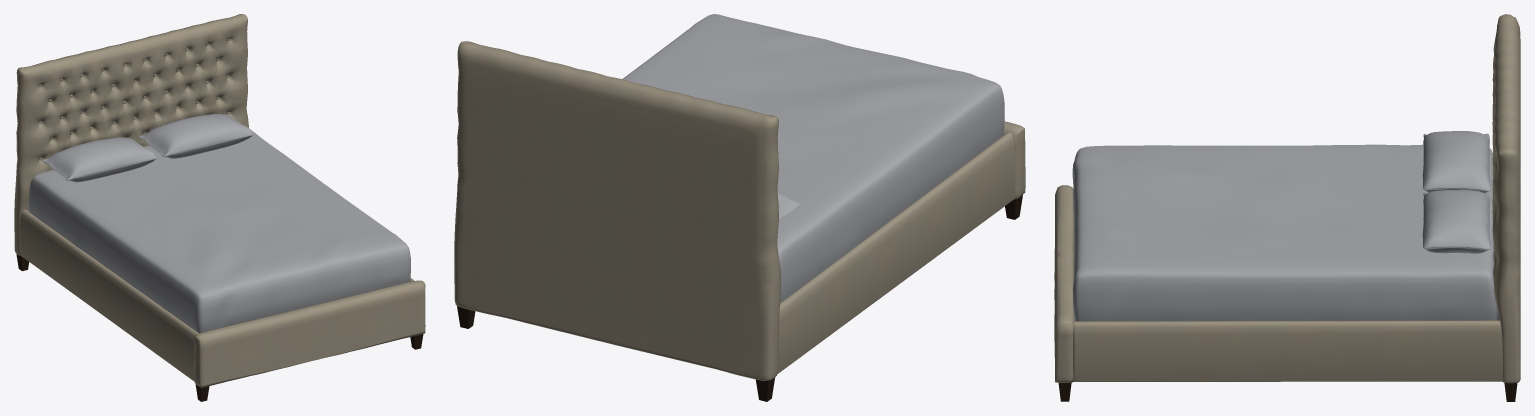
The model's file is abo-B07B4YXRLC.glb.
3 views of the same model, side by side, from view 1: azimuth 30°, elevation 25°; view 2: azimuth 150°, elevation 25°; view 3: azimuth 270°, elevation 25° (orthographic). The views are drawn at different scales.
Bounding box in the file's own units: 1.7 × 1.43 × 2.39.
1 material, 1 textured.
